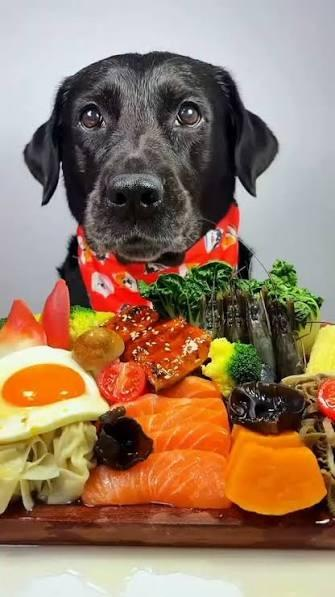adult_dog: (22, 49, 278, 312)
